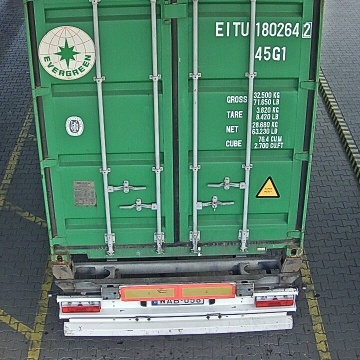serial_id: (215, 21, 311, 36)
